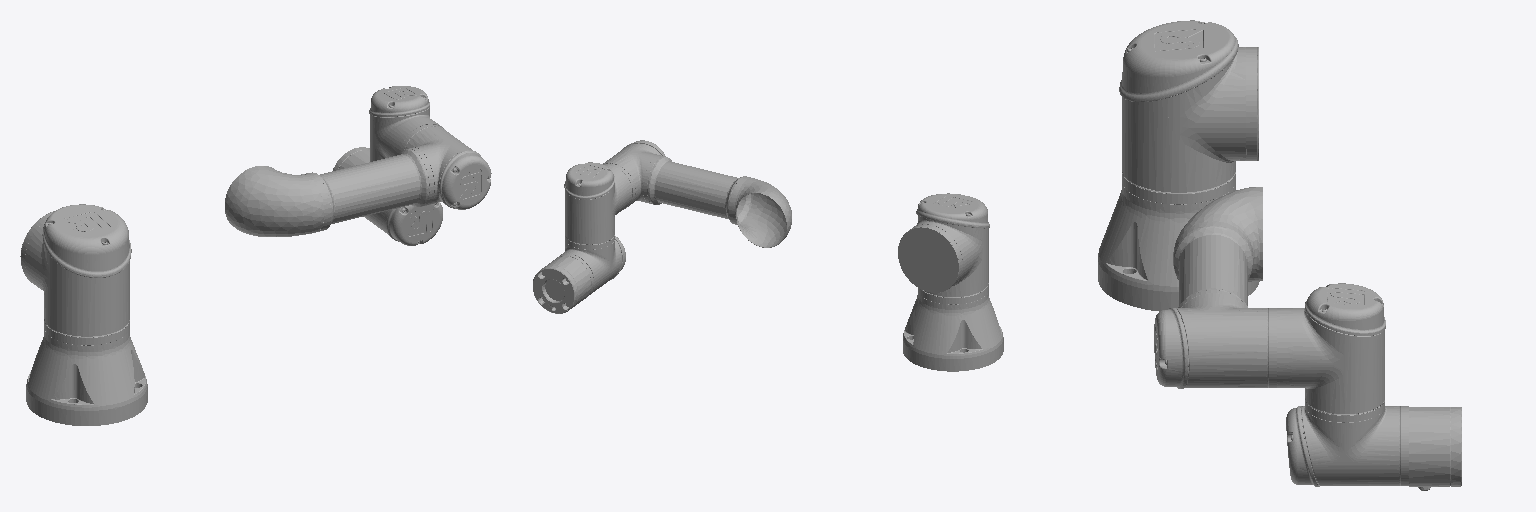
URDF robot description (ur3e_robot):
<?xml version="1.0" encoding="utf-8"?>
<!-- =================================================================================== -->
<!-- |    This document was autogenerated by xacro from ur3e.xacro                     | -->
<!-- |    EDITING THIS FILE BY HAND IS NOT RECOMMENDED                                 | -->
<!-- =================================================================================== -->
<robot name="ur3e_robot">
  <!--
    Base UR robot series xacro macro.

    NOTE: this is NOT a URDF. It cannot directly be loaded by consumers
    expecting a flattened '.urdf' file. See the top-level '.xacro' for that
    (but note: that .xacro must still be processed by the xacro command).

    For use in '.launch' files: use one of the 'load_urX.launch' convenience
    launch files.

    This file models the base kinematic chain of a UR robot, which then gets
    parameterised by various configuration files to convert it into a UR3(e),
    UR5(e), UR10(e) or UR16e.

    NOTE: the default kinematic parameters (ie: link lengths, frame locations,
    offets, etc) do not correspond to any particular robot. They are defaults
    only. There WILL be non-zero offsets between the Forward Kinematics results
    in TF (ie: robot_state_publisher) and the values reported by the Teach
    Pendant.

    For accurate (and robot-specific) transforms, the 'kinematics_parameters_file'
    parameter MUST point to a .yaml file containing the appropriate values for
    the targetted robot.

    If using the UniversalRobots/Universal_Robots_ROS_Driver, follow the steps
    described in the readme of that repository to extract the kinematic
    calibration from the controller and generate the required .yaml file.

    Main author of the migration to yaml configs: Ludovic Delval.

    Contributors to previous versions (in no particular order):

     - Felix Messmer
     - Kelsey Hawkins
     - Wim Meeussen
     - Shaun Edwards
     - Nadia Hammoudeh Garcia
     - Dave Hershberger
     - G. vd. Hoorn
     - Philip Long
     - Dave Coleman
     - Miguel Prada
     - Mathias Luedtke
     - Marcel Schnirring
     - Felix von Drigalski
     - Felix Exner
     - Jimmy Da Silva
     - Ajit Krisshna N L
     - Muhammad Asif Rana
  -->
  <!--
    NOTE: the macro defined in this file is NOT part of the public API of this
          package. Users CANNOT rely on this file being available, or stored in
          this location. Nor can they rely on the existence of the macro.
  -->
  <transmission name="shoulder_pan_trans">
    <type>transmission_interface/SimpleTransmission</type>
    <joint name="shoulder_pan_joint">
      <hardwareInterface>hardware_interface/PositionJointInterface</hardwareInterface>
    </joint>
    <actuator name="shoulder_pan_motor">
      <mechanicalReduction>1</mechanicalReduction>
    </actuator>
  </transmission>
  <transmission name="shoulder_lift_trans">
    <type>transmission_interface/SimpleTransmission</type>
    <joint name="shoulder_lift_joint">
      <hardwareInterface>hardware_interface/PositionJointInterface</hardwareInterface>
    </joint>
    <actuator name="shoulder_lift_motor">
      <mechanicalReduction>1</mechanicalReduction>
    </actuator>
  </transmission>
  <transmission name="elbow_trans">
    <type>transmission_interface/SimpleTransmission</type>
    <joint name="elbow_joint">
      <hardwareInterface>hardware_interface/PositionJointInterface</hardwareInterface>
    </joint>
    <actuator name="elbow_motor">
      <mechanicalReduction>1</mechanicalReduction>
    </actuator>
  </transmission>
  <transmission name="wrist_1_trans">
    <type>transmission_interface/SimpleTransmission</type>
    <joint name="wrist_1_joint">
      <hardwareInterface>hardware_interface/PositionJointInterface</hardwareInterface>
    </joint>
    <actuator name="wrist_1_motor">
      <mechanicalReduction>1</mechanicalReduction>
    </actuator>
  </transmission>
  <transmission name="wrist_2_trans">
    <type>transmission_interface/SimpleTransmission</type>
    <joint name="wrist_2_joint">
      <hardwareInterface>hardware_interface/PositionJointInterface</hardwareInterface>
    </joint>
    <actuator name="wrist_2_motor">
      <mechanicalReduction>1</mechanicalReduction>
    </actuator>
  </transmission>
  <transmission name="wrist_3_trans">
    <type>transmission_interface/SimpleTransmission</type>
    <joint name="wrist_3_joint">
      <hardwareInterface>hardware_interface/PositionJointInterface</hardwareInterface>
    </joint>
    <actuator name="wrist_3_motor">
      <mechanicalReduction>1</mechanicalReduction>
    </actuator>
  </transmission>
  <!-- links: main serial chain -->
  <link name="base_link"/>
  <link name="base_link_inertia">
    <visual>
      <origin rpy="0 0 3.14159265359" xyz="0 0 0"/>
      <geometry>
        <mesh filename="package://ur_description/meshes/ur3e/visual/base.dae"/>
      </geometry>
      <material name="LightGrey">
        <color rgba="0.7 0.7 0.7 1.0"/>
      </material>
    </visual>
    <collision>
      <origin rpy="0 0 3.14159265359" xyz="0 0 0"/>
      <geometry>
        <mesh filename="package://ur_description/meshes/ur3e/collision/base.stl"/>
      </geometry>
    </collision>
    <inertial>
      <mass value="2.0"/>
      <origin rpy="0 0 0" xyz="0 0 0"/>
      <inertia ixx="0.0030531654454" ixy="0.0" ixz="0.0" iyy="0.0030531654454" iyz="0.0" izz="0.005625"/>
    </inertial>
  </link>
  <link name="shoulder_link">
    <visual>
      <origin rpy="0 0 3.14159265359" xyz="0 0 0"/>
      <geometry>
        <mesh filename="package://ur_description/meshes/ur3e/visual/shoulder.dae"/>
      </geometry>
      <material name="LightGrey">
        <color rgba="0.7 0.7 0.7 1.0"/>
      </material>
    </visual>
    <collision>
      <origin rpy="0 0 3.14159265359" xyz="0 0 0"/>
      <geometry>
        <mesh filename="package://ur_description/meshes/ur3e/collision/shoulder.stl"/>
      </geometry>
    </collision>
    <inertial>
      <mass value="2.0"/>
      <origin rpy="0 0 0" xyz="0 0 0"/>
      <inertia ixx="0.0080931634294" ixy="0.0" ixz="0.0" iyy="0.0080931634294" iyz="0.0" izz="0.005625"/>
    </inertial>
  </link>
  <link name="upper_arm_link">
    <visual>
      <origin rpy="1.57079632679 0 -1.57079632679" xyz="0 0 0.12"/>
      <geometry>
        <mesh filename="package://ur_description/meshes/ur3e/visual/upperarm.dae"/>
      </geometry>
      <material name="LightGrey">
        <color rgba="0.7 0.7 0.7 1.0"/>
      </material>
    </visual>
    <collision>
      <origin rpy="1.57079632679 0 -1.57079632679" xyz="0 0 0.12"/>
      <geometry>
        <mesh filename="package://ur_description/meshes/ur3e/collision/upperarm.stl"/>
      </geometry>
    </collision>
    <inertial>
      <mass value="3.42"/>
      <origin rpy="0 1.57079632679 0" xyz="-0.121825 0.0 0.12"/>
      <inertia ixx="0.0217284832211" ixy="0.0" ixz="0.0" iyy="0.0217284832211" iyz="0.0" izz="0.00961875"/>
    </inertial>
  </link>
  <link name="forearm_link">
    <visual>
      <origin rpy="1.57079632679 0 -1.57079632679" xyz="0 0 0.027"/>
      <geometry>
        <mesh filename="package://ur_description/meshes/ur3e/visual/forearm.dae"/>
      </geometry>
      <material name="LightGrey">
        <color rgba="0.7 0.7 0.7 1.0"/>
      </material>
    </visual>
    <collision>
      <origin rpy="1.57079632679 0 -1.57079632679" xyz="0 0 0.027"/>
      <geometry>
        <mesh filename="package://ur_description/meshes/ur3e/collision/forearm.stl"/>
      </geometry>
    </collision>
    <inertial>
      <mass value="1.26"/>
      <origin rpy="0 1.57079632679 0" xyz="-0.1066 0.0 0.027"/>
      <inertia ixx="0.00654456758217" ixy="0.0" ixz="0.0" iyy="0.00654456758217" iyz="0.0" izz="0.00354375"/>
    </inertial>
  </link>
  <link name="wrist_1_link">
    <visual>
      <!-- TODO: Move this to a parameter -->
      <origin rpy="1.57079632679 0 0" xyz="0 0 -0.104"/>
      <geometry>
        <mesh filename="package://ur_description/meshes/ur3e/visual/wrist1.dae"/>
      </geometry>
      <material name="LightGrey">
        <color rgba="0.7 0.7 0.7 1.0"/>
      </material>
    </visual>
    <collision>
      <origin rpy="1.57079632679 0 0" xyz="0 0 -0.104"/>
      <geometry>
        <mesh filename="package://ur_description/meshes/ur3e/collision/wrist1.stl"/>
      </geometry>
    </collision>
    <inertial>
      <mass value="0.8"/>
      <origin rpy="0 0 0" xyz="0 0 0"/>
      <inertia ixx="0.002084999166" ixy="0.0" ixz="0.0" iyy="0.002084999166" iyz="0.0" izz="0.00225"/>
    </inertial>
  </link>
  <link name="wrist_2_link">
    <visual>
      <origin rpy="0 0 0" xyz="0 0 -0.08535"/>
      <geometry>
        <mesh filename="package://ur_description/meshes/ur3e/visual/wrist2.dae"/>
      </geometry>
      <material name="LightGrey">
        <color rgba="0.7 0.7 0.7 1.0"/>
      </material>
    </visual>
    <collision>
      <origin rpy="0 0 0" xyz="0 0 -0.08535"/>
      <geometry>
        <mesh filename="package://ur_description/meshes/ur3e/collision/wrist2.stl"/>
      </geometry>
    </collision>
    <inertial>
      <mass value="0.8"/>
      <origin rpy="0 0 0" xyz="0 0 0"/>
      <inertia ixx="0.002084999166" ixy="0.0" ixz="0.0" iyy="0.002084999166" iyz="0.0" izz="0.00225"/>
    </inertial>
  </link>
  <link name="wrist_3_link">
    <visual>
      <origin rpy="1.57079632679 0 0" xyz="0 0 -0.0921"/>
      <geometry>
        <mesh filename="package://ur_description/meshes/ur3e/visual/wrist3.dae"/>
      </geometry>
      <material name="LightGrey">
        <color rgba="0.7 0.7 0.7 1.0"/>
      </material>
    </visual>
    <collision>
      <origin rpy="1.57079632679 0 0" xyz="0 0 -0.0921"/>
      <geometry>
        <mesh filename="package://ur_description/meshes/ur3e/collision/wrist3.stl"/>
      </geometry>
    </collision>
    <inertial>
      <mass value="0.35"/>
      <origin rpy="0 0 0" xyz="0.0 0.0 -0.02"/>
      <inertia ixx="0.00013626661216" ixy="0.0" ixz="0.0" iyy="0.00013626661216" iyz="0.0" izz="0.0001792"/>
    </inertial>
  </link>
  <!-- joints: main serial chain -->
  <joint name="base_link-base_link_inertia" type="fixed">
    <parent link="base_link"/>
    <child link="base_link_inertia"/>
    <!-- 'base_link' is REP-103 aligned (so X+ forward), while the internal
           frames of the robot/controller have X+ pointing backwards.
           Use the joint between 'base_link' and 'base_link_inertia' (a dummy
           link/frame) to introduce the necessary rotation over Z (of pi rad).
      -->
    <origin rpy="0 0 3.14159265359" xyz="0 0 0"/>
  </joint>
  <joint name="shoulder_pan_joint" type="revolute">
    <parent link="base_link_inertia"/>
    <child link="shoulder_link"/>
    <origin rpy="0 0 0" xyz="0 0 0.15185"/>
    <axis xyz="0 0 1"/>
    <limit effort="56.0" lower="-6.28318530718" upper="6.28318530718" velocity="3.14159265359"/>
    <dynamics damping="0" friction="0"/>
  </joint>
  <joint name="shoulder_lift_joint" type="revolute">
    <parent link="shoulder_link"/>
    <child link="upper_arm_link"/>
    <origin rpy="1.570796327 0 0" xyz="0 0 0"/>
    <axis xyz="0 0 1"/>
    <limit effort="56.0" lower="-6.28318530718" upper="6.28318530718" velocity="3.14159265359"/>
    <dynamics damping="0" friction="0"/>
  </joint>
  <joint name="elbow_joint" type="revolute">
    <parent link="upper_arm_link"/>
    <child link="forearm_link"/>
    <origin rpy="0 0 0" xyz="-0.24355 0 0"/>
    <axis xyz="0 0 1"/>
    <limit effort="28.0" lower="-3.14159265359" upper="3.14159265359" velocity="3.14159265359"/>
    <dynamics damping="0" friction="0"/>
  </joint>
  <joint name="wrist_1_joint" type="revolute">
    <parent link="forearm_link"/>
    <child link="wrist_1_link"/>
    <origin rpy="0 0 0" xyz="-0.2132 0 0.13105"/>
    <axis xyz="0 0 1"/>
    <limit effort="12.0" lower="-6.28318530718" upper="6.28318530718" velocity="6.28318530718"/>
    <dynamics damping="0" friction="0"/>
  </joint>
  <joint name="wrist_2_joint" type="revolute">
    <parent link="wrist_1_link"/>
    <child link="wrist_2_link"/>
    <origin rpy="1.570796327 0 0" xyz="0 -0.08535 -1.75055776238e-11"/>
    <axis xyz="0 0 1"/>
    <limit effort="12.0" lower="-6.28318530718" upper="6.28318530718" velocity="6.28318530718"/>
    <dynamics damping="0" friction="0"/>
  </joint>
  <joint name="wrist_3_joint" type="revolute">
    <parent link="wrist_2_link"/>
    <child link="wrist_3_link"/>
    <origin rpy="1.57079632659 3.14159265359 3.14159265359" xyz="0 0.0921 -1.88900257663e-11"/>
    <axis xyz="0 0 1"/>
    <limit effort="12.0" lower="-6.28318530718" upper="6.28318530718" velocity="6.28318530718"/>
    <dynamics damping="0" friction="0"/>
  </joint>
  <!-- ROS-Industrial 'base' frame: base_link to UR 'Base' Coordinates transform -->
  <link name="base"/>
  <joint name="base_link-base_fixed_joint" type="fixed">
    <!-- Note the rotation over Z of pi radians: as base_link is REP-103
           aligned (ie: has X+ forward, Y+ left and Z+ up), this is needed
           to correctly align 'base' with the 'Base' coordinate system of
           the UR controller.
      -->
    <origin rpy="0 0 3.14159265359" xyz="0 0 0"/>
    <parent link="base_link"/>
    <child link="base"/>
  </joint>
  <!-- ROS-Industrial 'flange' frame: attachment point for EEF models -->
  <link name="flange"/>
  <joint name="wrist_3-flange" type="fixed">
    <parent link="wrist_3_link"/>
    <child link="flange"/>
    <origin rpy="0 -1.57079632679 -1.57079632679" xyz="0 0 0"/>
  </joint>
  <!-- ROS-Industrial 'tool0' frame: all-zeros tool frame -->
  <link name="tool0"/>
  <joint name="flange-tool0" type="fixed">
    <!-- default toolframe: X+ left, Y+ up, Z+ front -->
    <origin rpy="1.57079632679 0 1.57079632679" xyz="0 0 0"/>
    <parent link="flange"/>
    <child link="tool0"/>
  </joint>
</robot>

--- What the picture shows (computed from the rendered views, not written in the file) ---
Views: 3 orthographic renders of the robot side by side, from view 1: azimuth 30°, elevation 25°; view 2: azimuth 150°, elevation 25°; view 3: azimuth 270°, elevation 25°.
Model ur3e_robot with 11 links and 10 joints (6 revolute, 4 fixed), rooted at base_link, posed every joint at zero.
Links seen in each view (by area): view 1: forearm_link, shoulder_link, base_link_inertia, wrist_1_link, wrist_2_link, wrist_3_link; view 2: forearm_link, shoulder_link, base_link_inertia, wrist_1_link, wrist_3_link, wrist_2_link; view 3: shoulder_link, forearm_link, wrist_1_link, base_link_inertia, wrist_2_link, wrist_3_link.
Link boxes in pixels (bbox=[...]): forearm_link: bbox=[225, 124, 491, 236]; shoulder_link: bbox=[20, 204, 131, 336]; base_link_inertia: bbox=[26, 319, 147, 425]; wrist_1_link: bbox=[369, 86, 443, 161]; wrist_2_link: bbox=[364, 202, 442, 245]; wrist_3_link: bbox=[333, 147, 369, 170]; forearm_link: bbox=[603, 140, 791, 247]; shoulder_link: bbox=[898, 193, 989, 296]; base_link_inertia: bbox=[903, 283, 1003, 371]; wrist_1_link: bbox=[564, 162, 632, 249]; wrist_3_link: bbox=[533, 256, 590, 313]; wrist_2_link: bbox=[557, 236, 625, 297]; shoulder_link: bbox=[1119, 20, 1258, 192]; forearm_link: bbox=[1154, 187, 1276, 388]; wrist_1_link: bbox=[1277, 283, 1385, 422]; base_link_inertia: bbox=[1098, 172, 1259, 311]; wrist_2_link: bbox=[1286, 406, 1408, 486]; wrist_3_link: bbox=[1409, 407, 1461, 490].
Bounding box of the posed robot: 0.553 × 0.2873 × 0.2099 m (x, y, z).
Meshes: 7 distinct files referenced, 6 mesh visuals loaded (6 Collada DAE); not drawn: 1 (reference not matched to a file when rendering).
